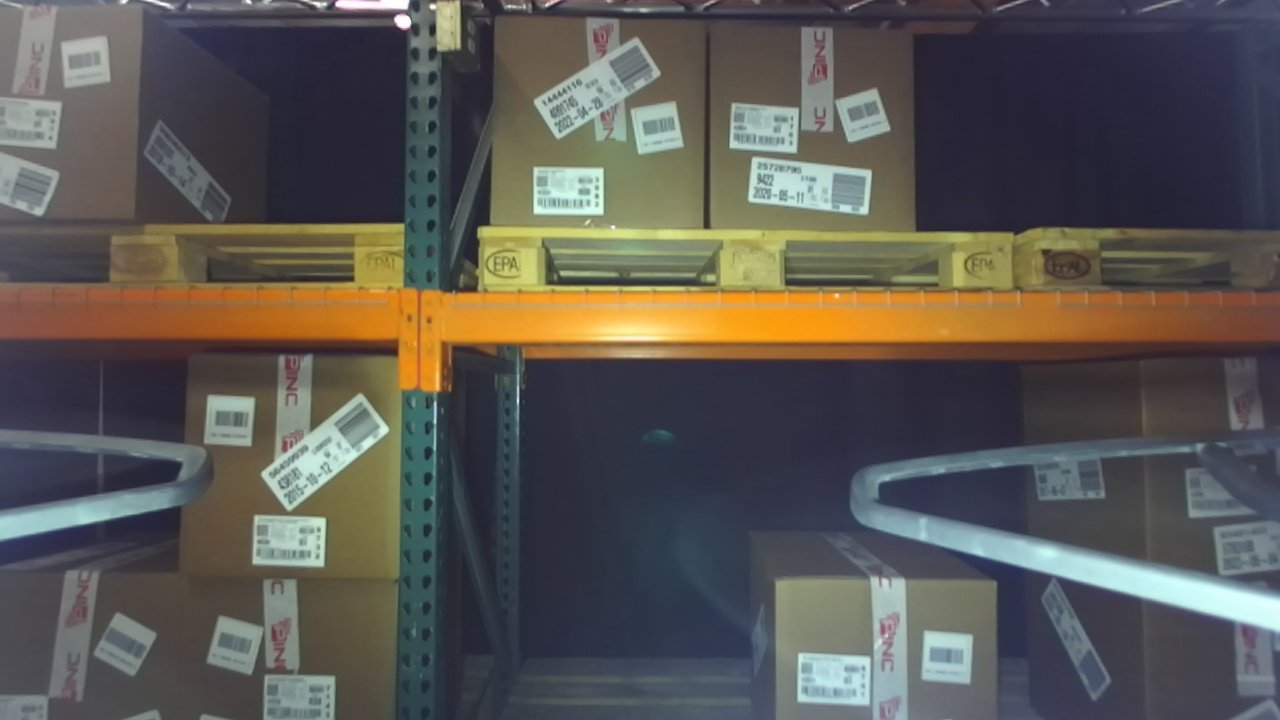box: (475, 1, 735, 255), (169, 341, 407, 594), (689, 6, 903, 253), (754, 551, 1017, 718), (143, 560, 417, 720)
